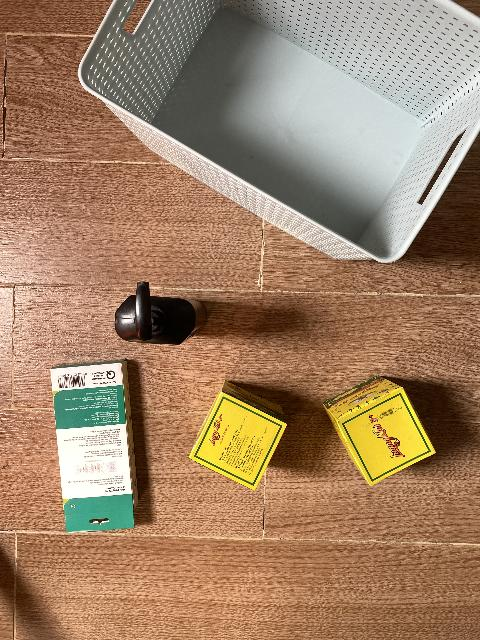4D_medical_face-mask: (50, 358, 138, 533)
Let-green_alcohol_wipes: (321, 375, 436, 487)
X-men: (114, 282, 207, 345)
cart: (79, 0, 480, 265)
luong_kho: (189, 380, 287, 491)
